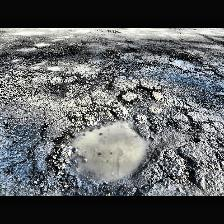pothole: (45, 102, 198, 194), (132, 85, 156, 101)
